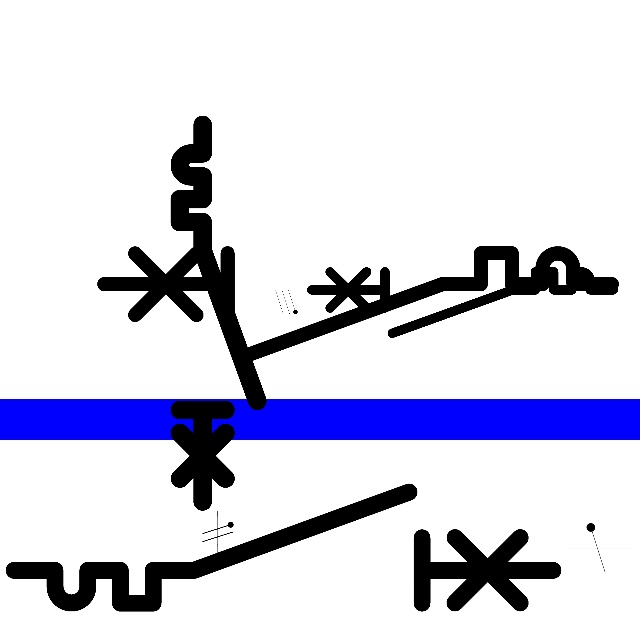interruptor_termomagnetico: (0, 478, 567, 617), (91, 240, 625, 370), (170, 115, 267, 511), (303, 264, 620, 341)
